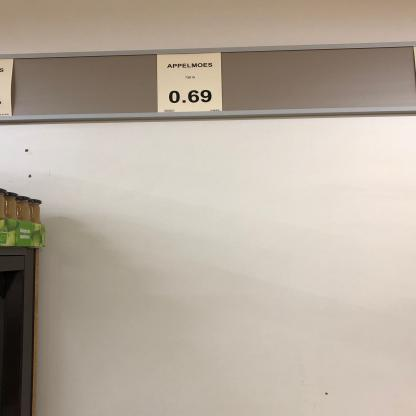prtg: (158, 54, 223, 114)
